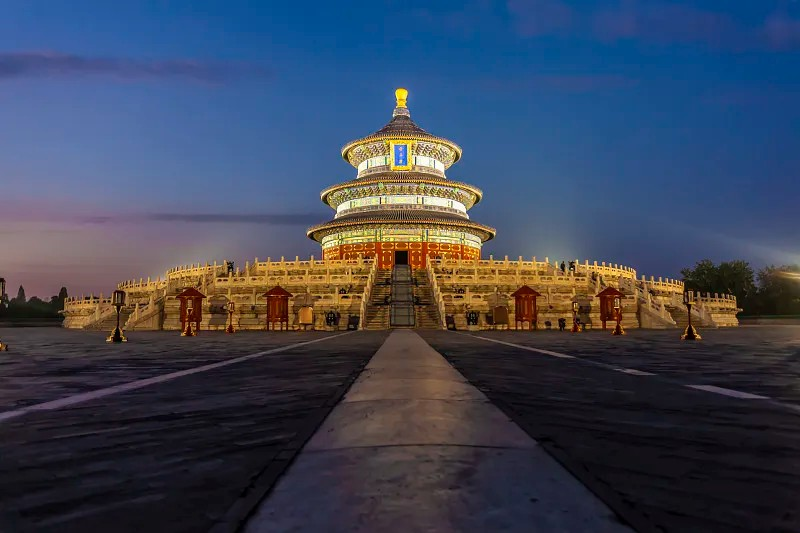Heaven: (304, 88, 497, 269)
